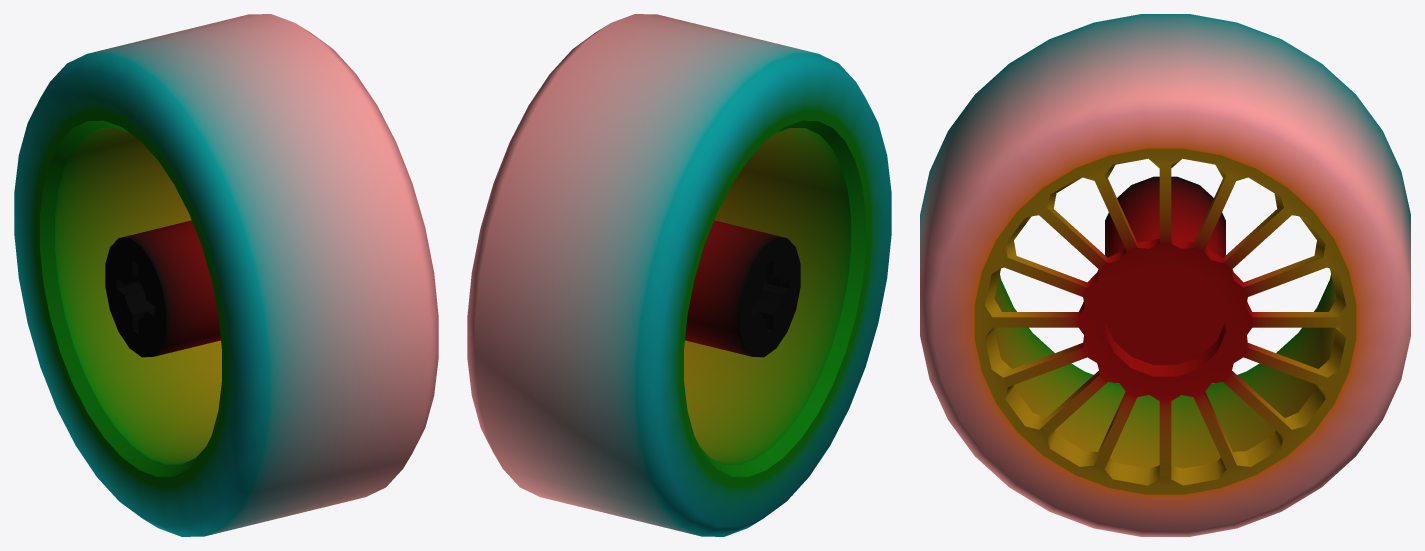
Rendered from SM_RacingWheel_3x4s.gltf.
3 views of the same model, side by side, from view 1: azimuth 30°, elevation 25°; view 2: azimuth 150°, elevation 25°; view 3: azimuth 270°, elevation 25° (orthographic).
Visible parts, largest first — view 1: SM_RacingWheel_3x4s; view 2: SM_RacingWheel_3x4s; view 3: SM_RacingWheel_3x4s.
Part boxes in pixels (x1,y1,x2,y2): SM_RacingWheel_3x4s: [14, 14, 438, 536]; SM_RacingWheel_3x4s: [467, 14, 891, 536]; SM_RacingWheel_3x4s: [920, 14, 1410, 536].
Size of the model in its own units: 0.403 by 0.8957 by 0.8957.
